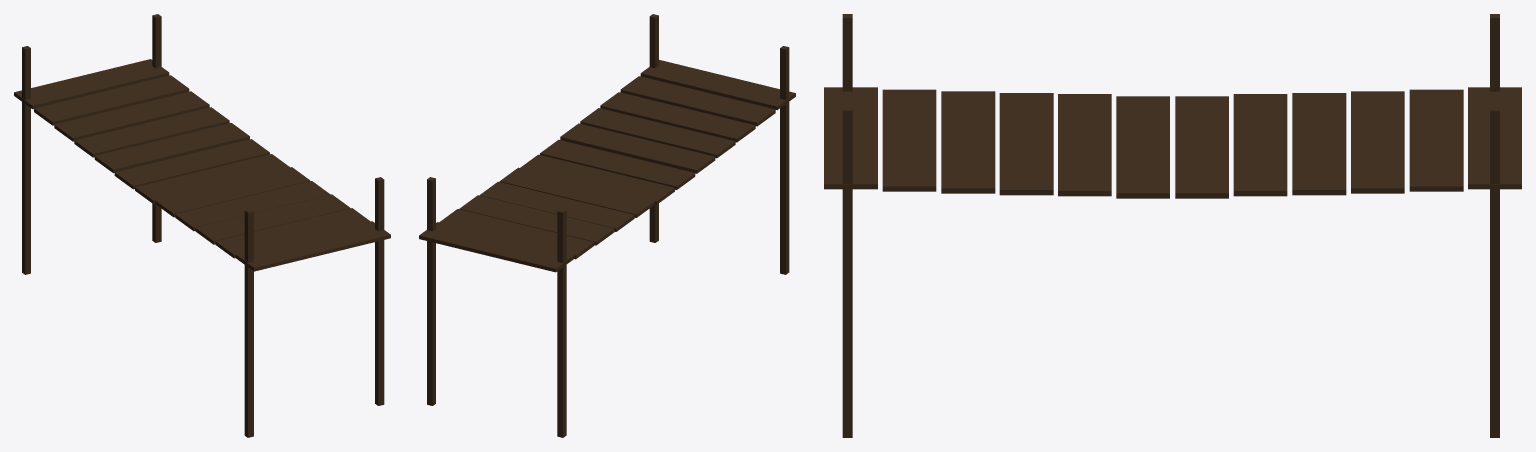
The model's file is Pier.fbx.
The picture shows the model from 3 angles, left to right: view 1: azimuth 30°, elevation 25°; view 2: azimuth 150°, elevation 25°; view 3: azimuth 270°, elevation 25°; orthographic projection. The views are drawn at different scales.
Parts seen in each view (by area): view 1: Pier; view 2: Pier; view 3: Pier.
Boxes of the visible parts, bbox=[...] form: Pier: bbox=[14, 14, 390, 437]; Pier: bbox=[419, 14, 795, 437]; Pier: bbox=[824, 14, 1521, 437].
Size of the model in its own units: 8.54 by 13.43 by 25.94.
